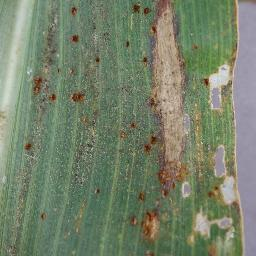Corn_Blight: (146, 0, 193, 182), (29, 0, 61, 117), (186, 205, 247, 254), (207, 137, 245, 215), (130, 202, 173, 255), (199, 61, 240, 111), (3, 189, 26, 256), (76, 110, 97, 175), (14, 137, 36, 189), (228, 0, 244, 58), (195, 80, 204, 178), (153, 181, 197, 199), (69, 0, 80, 48), (117, 119, 140, 139), (67, 86, 88, 107), (75, 201, 86, 235), (92, 21, 111, 40), (131, 186, 153, 202), (120, 84, 140, 99), (1, 101, 10, 131), (130, 2, 143, 20), (91, 182, 104, 199), (65, 62, 78, 79), (123, 39, 136, 53), (191, 37, 201, 54), (93, 52, 100, 73), (40, 205, 48, 223)
